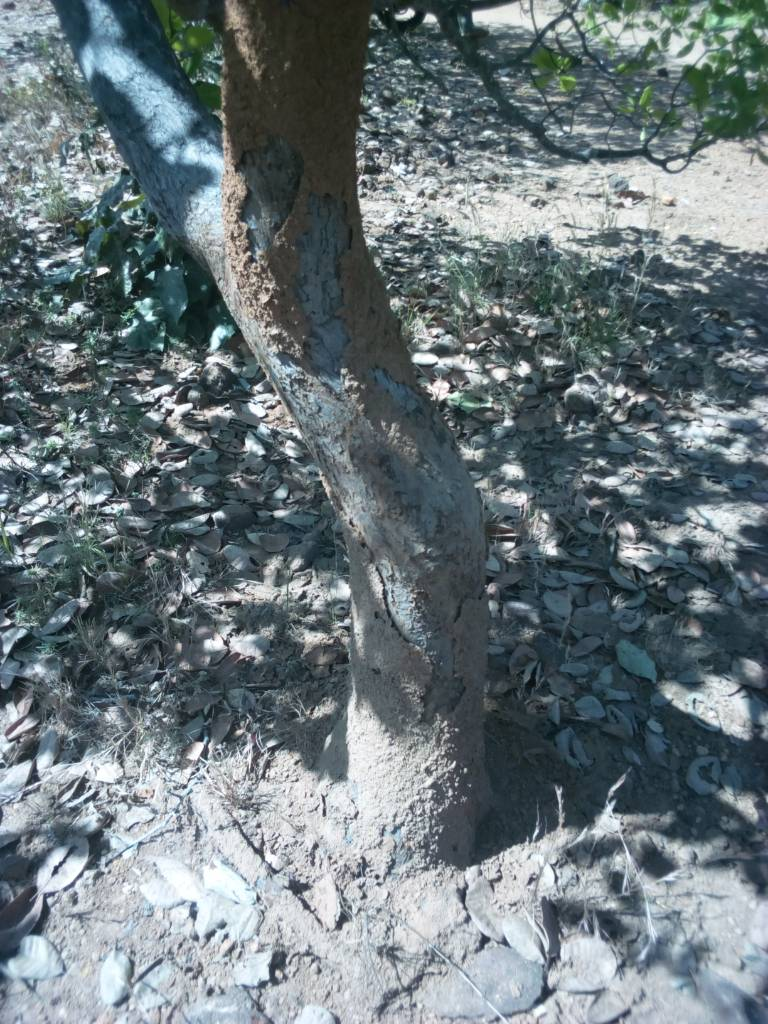Termites: (222, 2, 393, 358), (352, 524, 486, 835)
